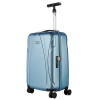luggage: (26, 1, 72, 97)
